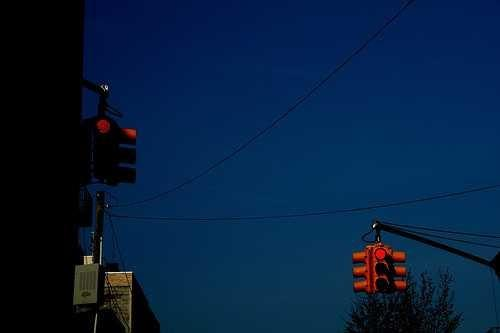red: (371, 246, 392, 294), (374, 246, 389, 261)
